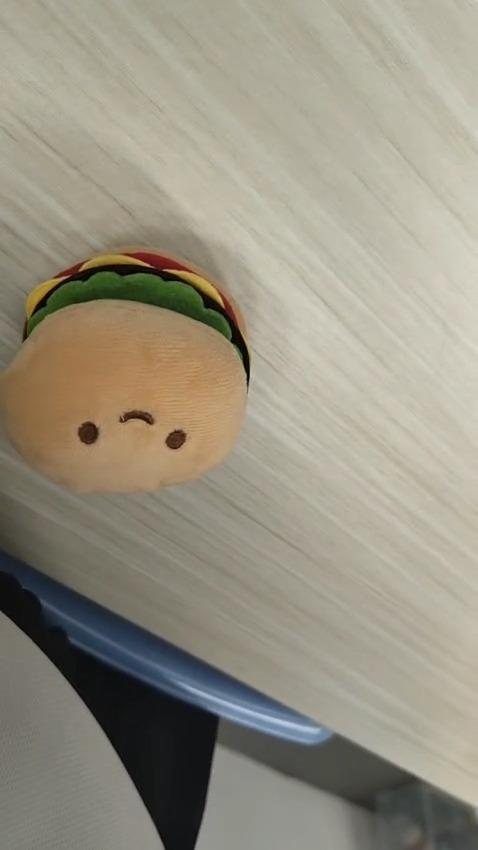hamburger: (5, 244, 253, 497)
